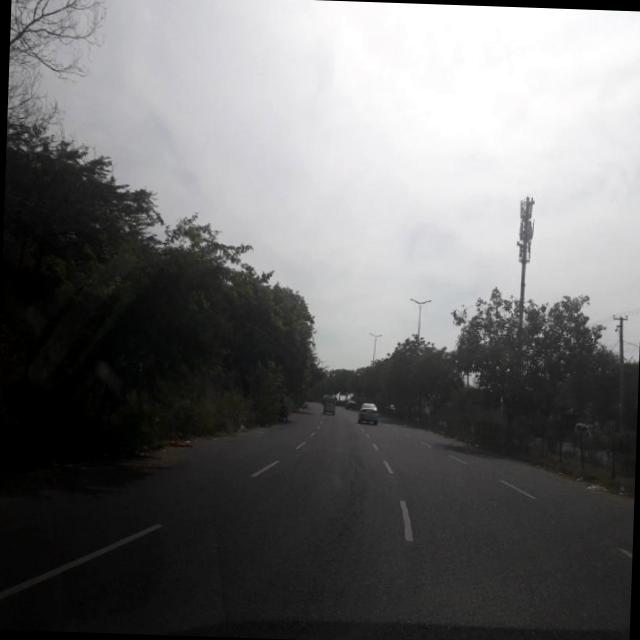crack: (305, 442, 372, 610)
